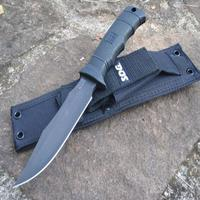knife: (10, 5, 144, 191)
